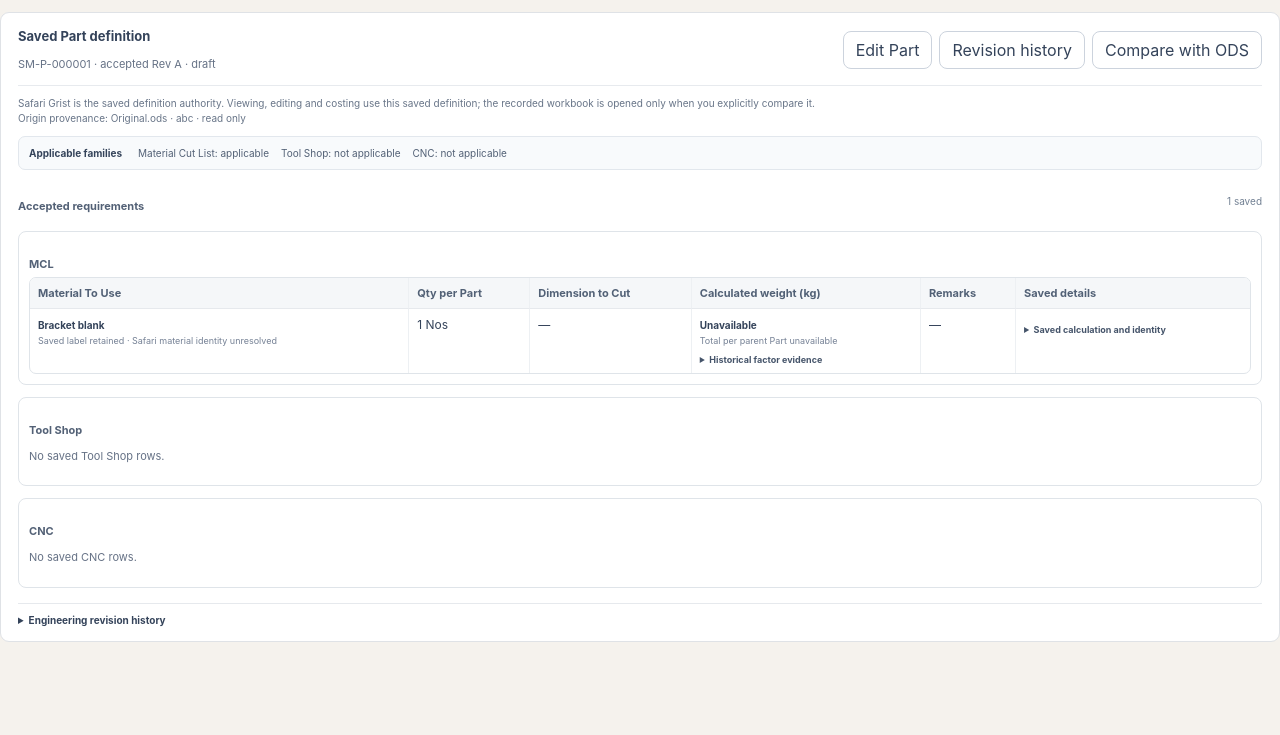
Test case: cancels then confirms row removal in the draft table
This screenshot has width=1280, height=735.
Click the button "Edit Part" at (888, 50), box [843,31,932,69]
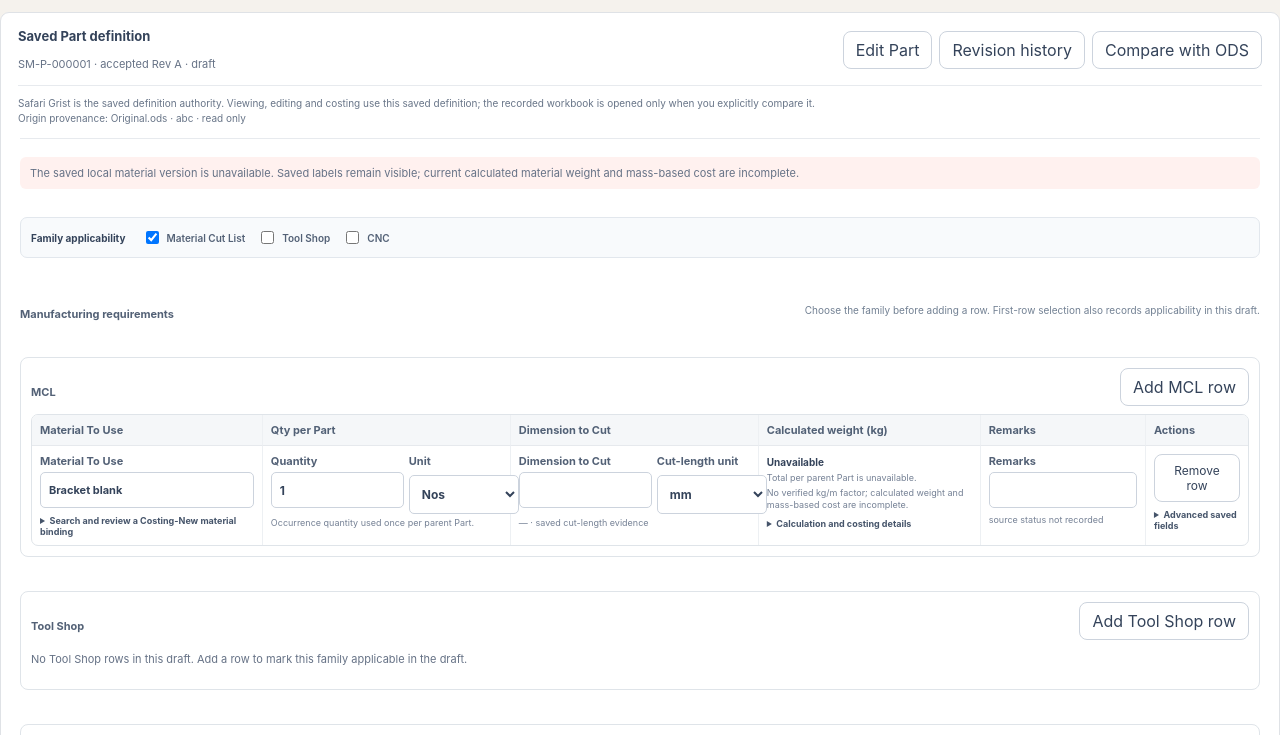
Click the button "Remove row" at (1197, 478), box [1154,454,1240,502]
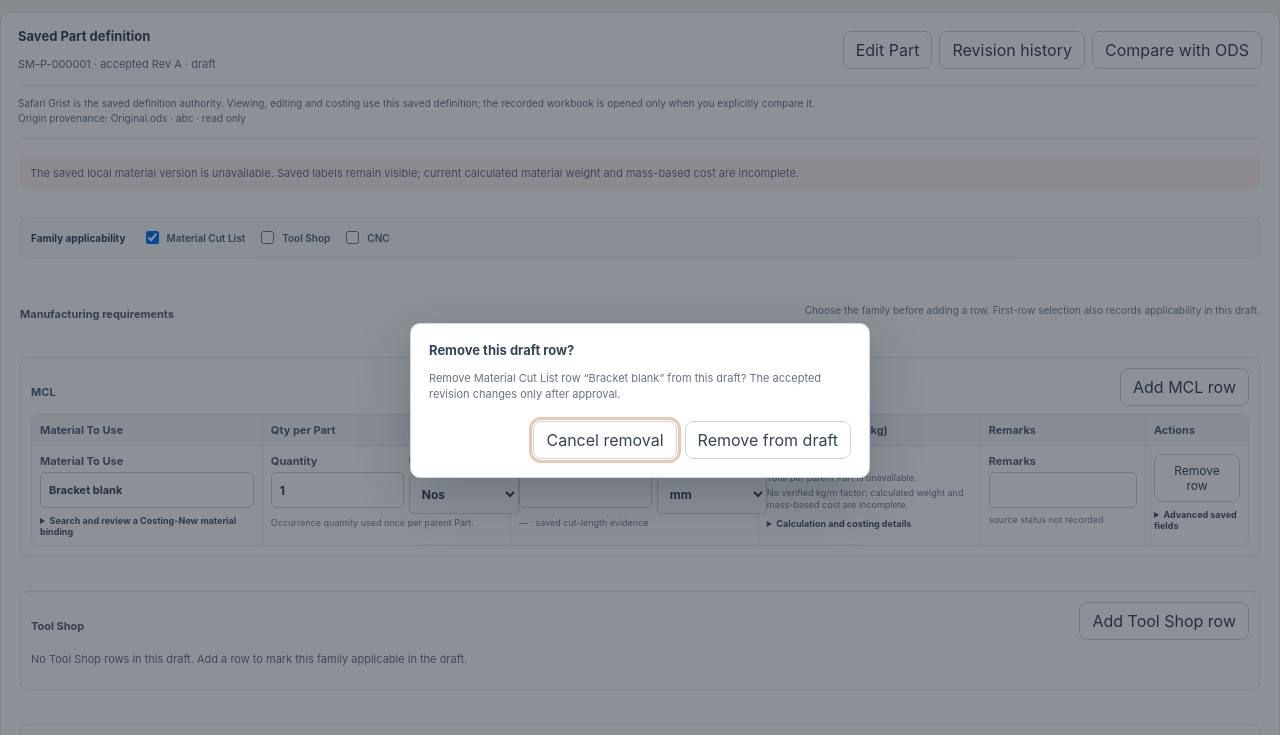
Expected: the dialog is shown, [410,322,870,478]
Click the button "Cancel removal" at (605, 440), box [534,420,677,458]
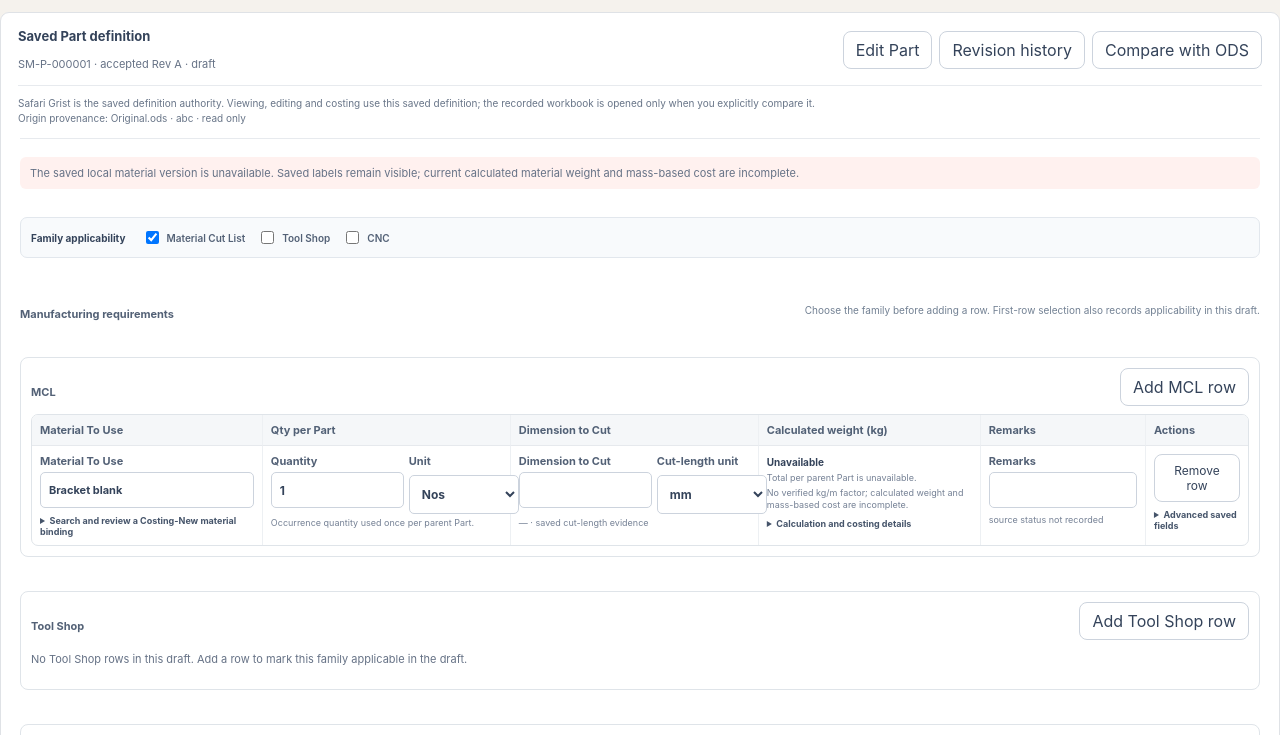
Click the button "Remove row" at (1197, 478), box [1154,454,1240,502]
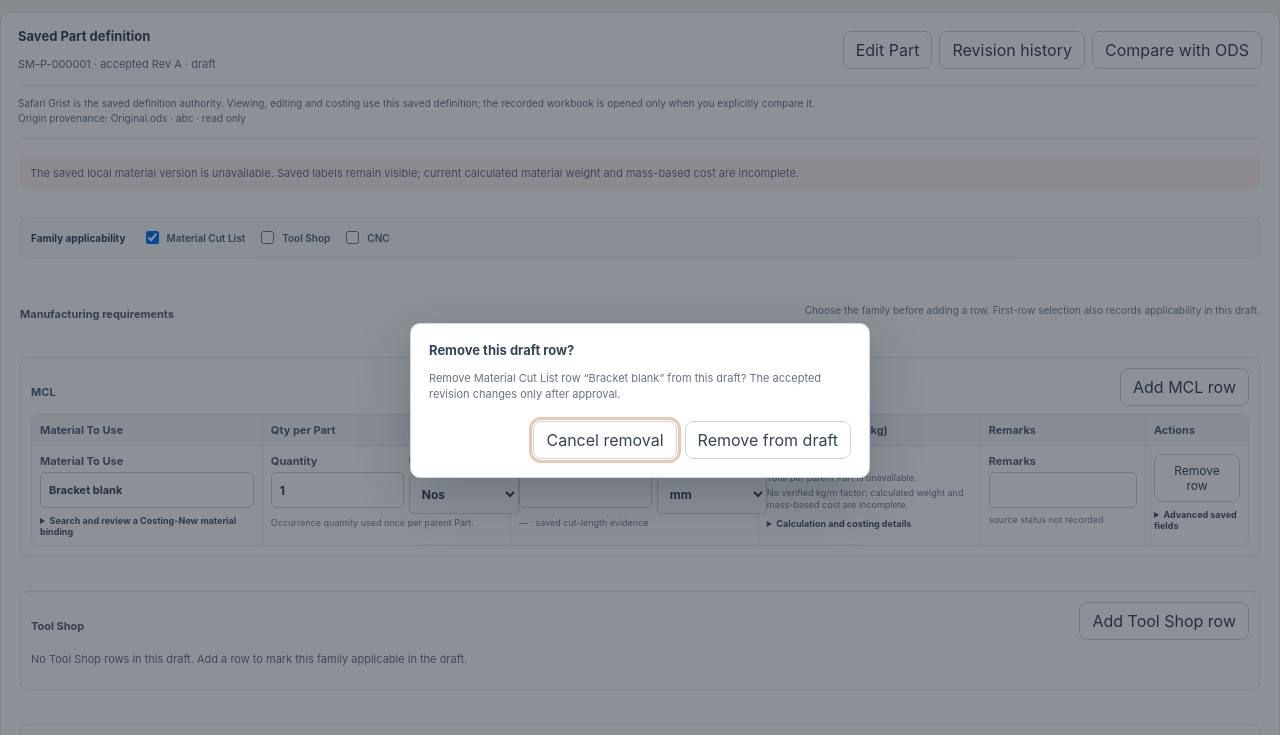
Click the button "Remove from draft" at (768, 440), box [685,420,851,458]
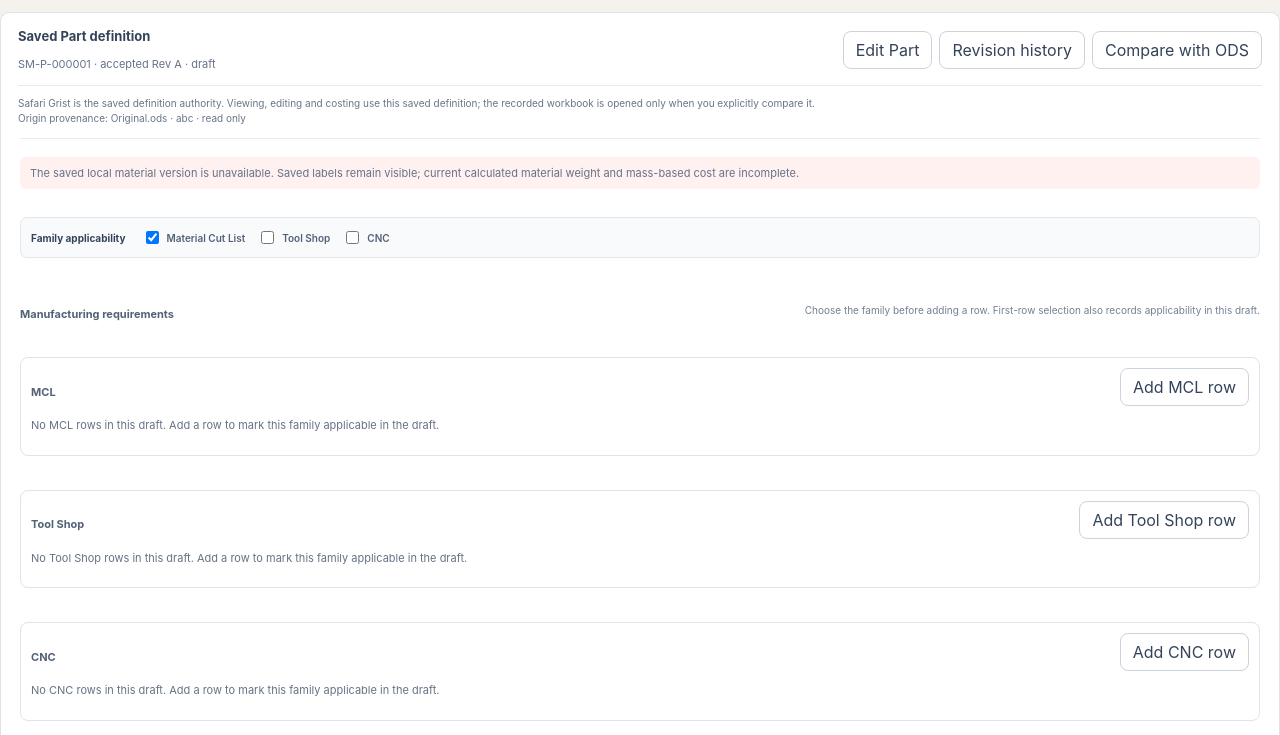
Expected: no rows are shown
